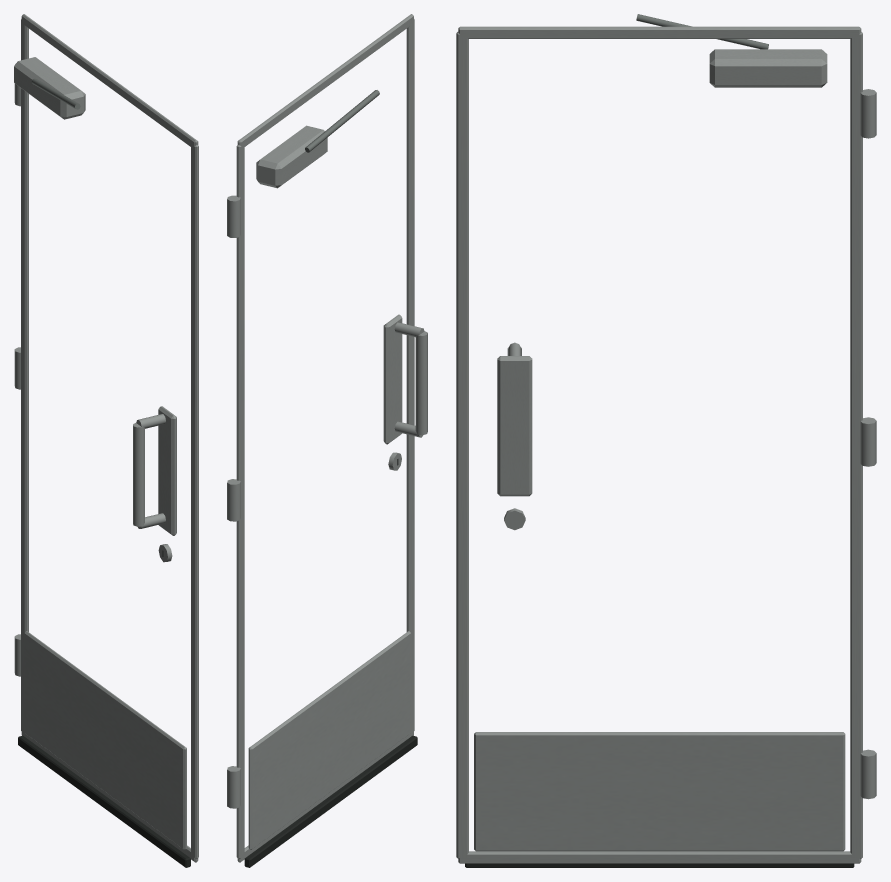
The model's file is SM_Arrival_DoorDetails_LOD2.fbx.
3 renders of one model, left to right at view 1: azimuth 30°, elevation 25°; view 2: azimuth 150°, elevation 25°; view 3: azimuth 270°, elevation 25°, orthographic. The views are drawn at different scales.
Parts seen in each view (by area): view 1: SM_Arrival_DoorDetails_LOD2; view 2: SM_Arrival_DoorDetails_LOD2; view 3: SM_Arrival_DoorDetails_LOD2.
Boxes of the visible parts, bbox=[...] form: SM_Arrival_DoorDetails_LOD2: bbox=[14, 14, 198, 867]; SM_Arrival_DoorDetails_LOD2: bbox=[227, 14, 427, 867]; SM_Arrival_DoorDetails_LOD2: bbox=[456, 14, 876, 867].
Size of the model in its own units: 0.1549 by 0.928 by 2.05.
